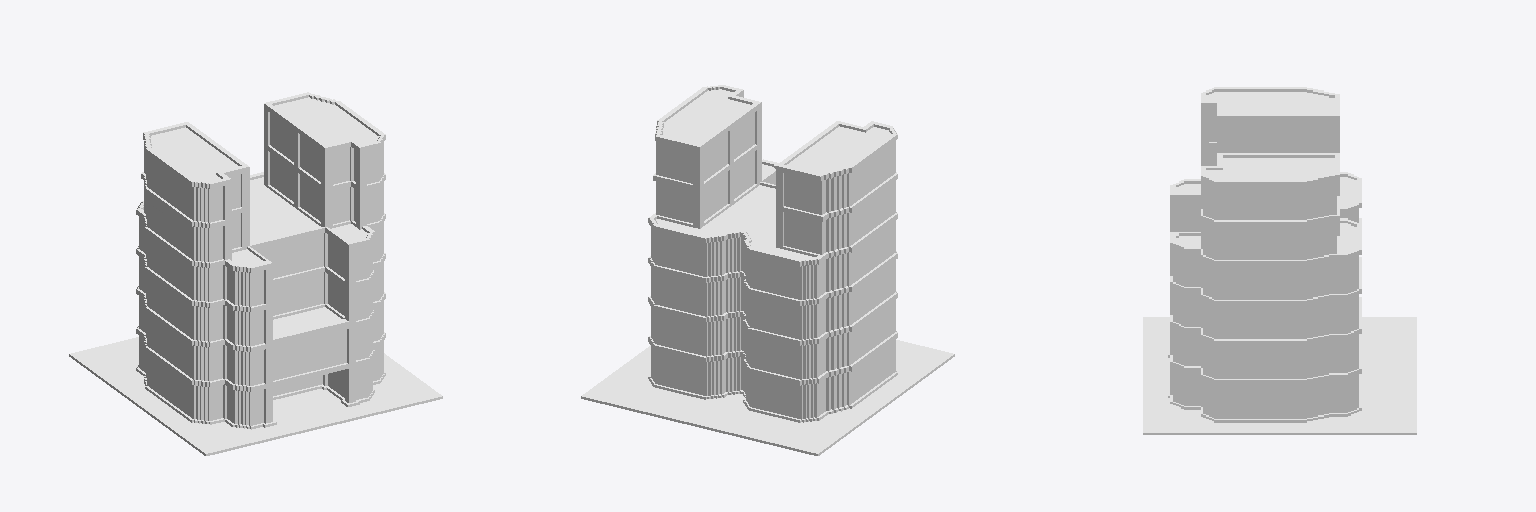
Rendered from Home_3.obj.
3 views of the same model, side by side, from view 1: azimuth 30°, elevation 25°; view 2: azimuth 150°, elevation 25°; view 3: azimuth 270°, elevation 25° (orthographic).
Visible parts, largest first — view 1: object 1; view 2: object 1; view 3: object 1.
Boxes of the visible parts, x1,y1,x2,y2 form: object 1: [69, 92, 442, 455]; object 1: [581, 85, 954, 455]; object 1: [1143, 87, 1416, 434].
Bounding box in the file's own units: 10 × 9.8 × 10.